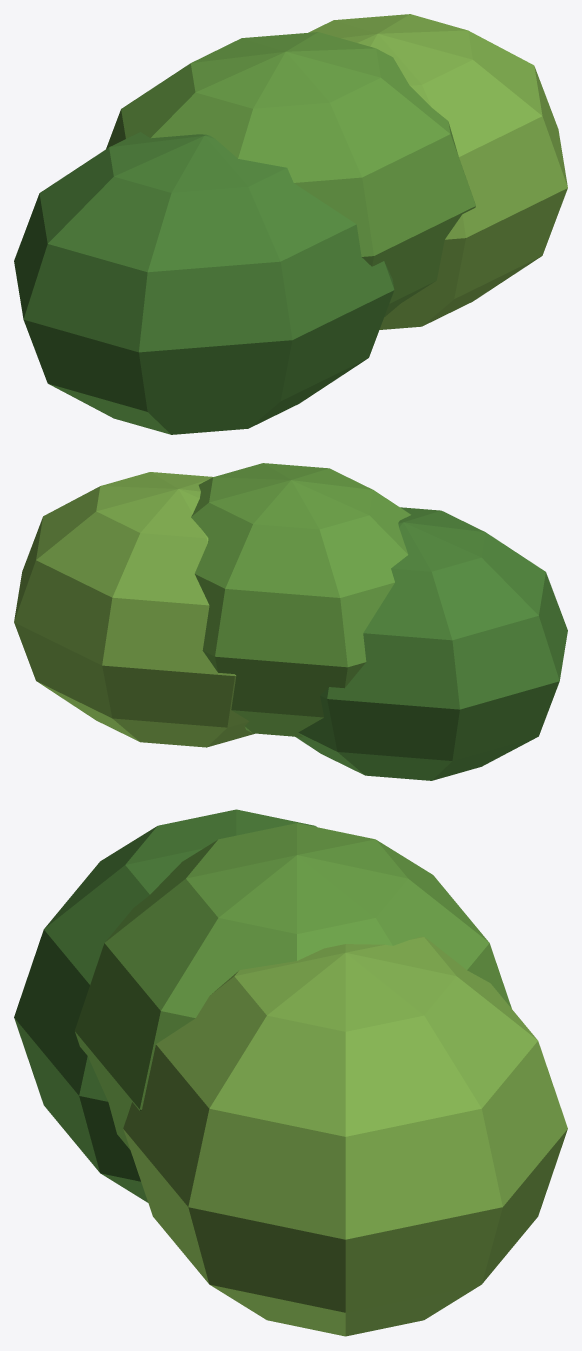
The model's file is bush_round_lod0.obj.
The picture shows the model from 3 angles, top to bottom: view 1: azimuth 30°, elevation 25°; view 2: azimuth 150°, elevation 25°; view 3: azimuth 270°, elevation 25°; orthographic projection. The views are drawn at different scales.
Parts seen in each view (by area): view 1: bush_round_lod0; view 2: bush_round_lod0; view 3: bush_round_lod0.
Part boxes in pixels (bbox=[...]): bush_round_lod0: bbox=[14, 14, 567, 434]; bush_round_lod0: bbox=[14, 463, 567, 780]; bush_round_lod0: bbox=[14, 809, 567, 1336].
Size of the model in its own units: 2.08 by 1.1 by 1.37.
Materials: 1 (1 with a texture image).
